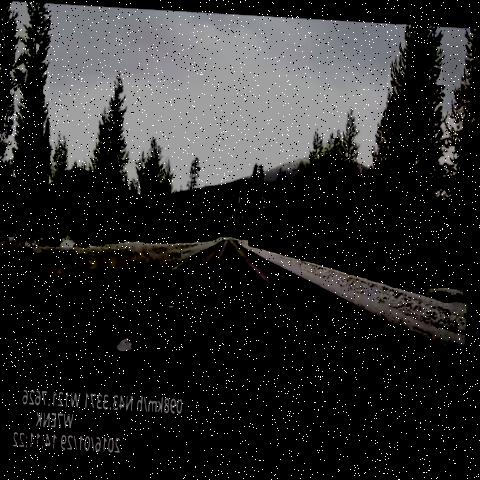pothole: (318, 353, 375, 421), (112, 304, 163, 357), (293, 315, 325, 352), (107, 359, 132, 380), (164, 294, 183, 315), (178, 282, 194, 303), (235, 248, 251, 265)
